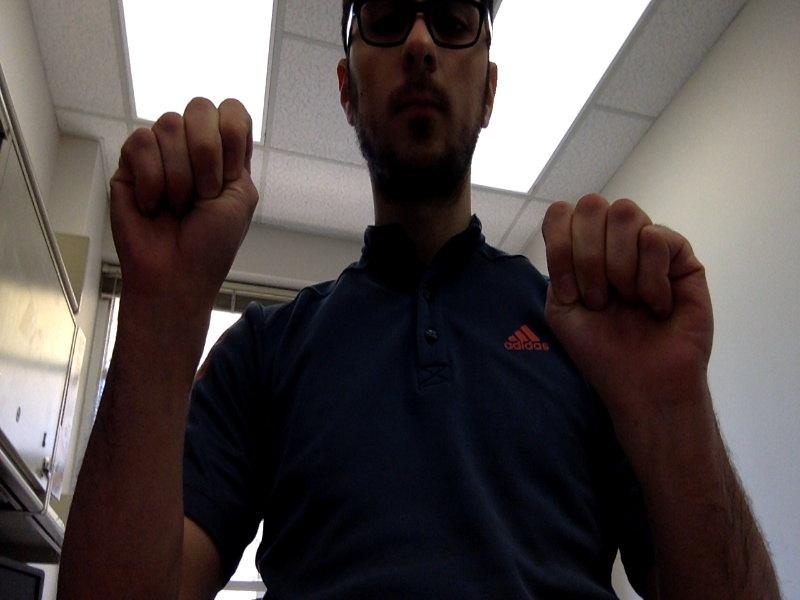0-hand: (543, 200, 714, 386), (109, 96, 257, 292)
